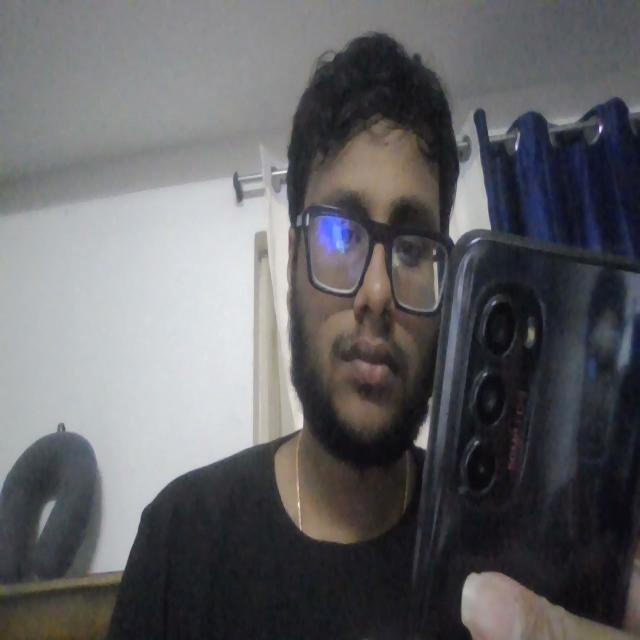phone: (451, 234, 640, 639)
